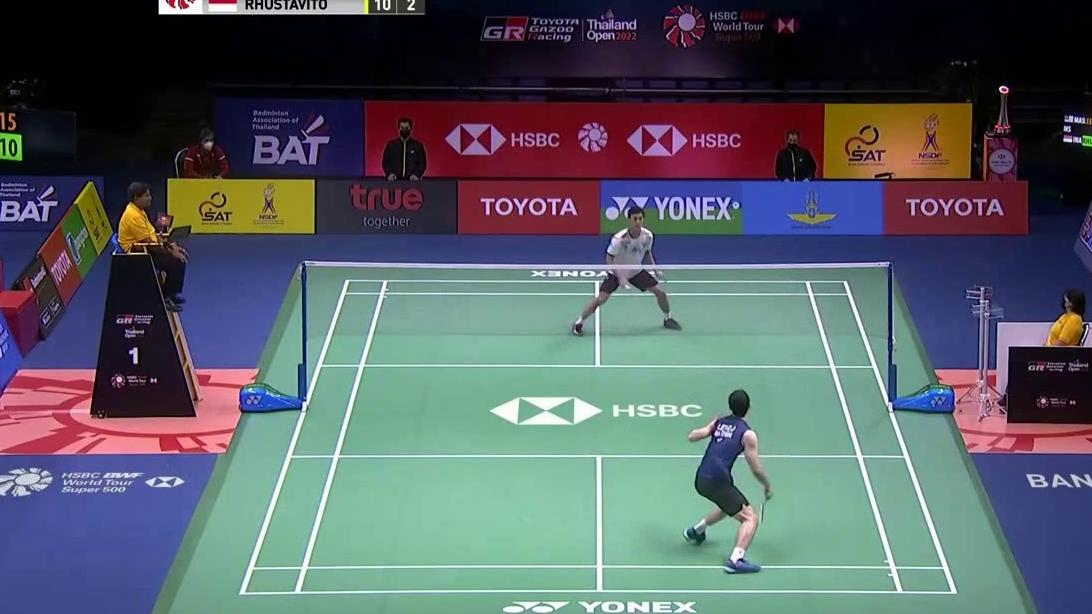racket: (752, 491, 773, 524)
shuttle: (733, 201, 741, 209)
